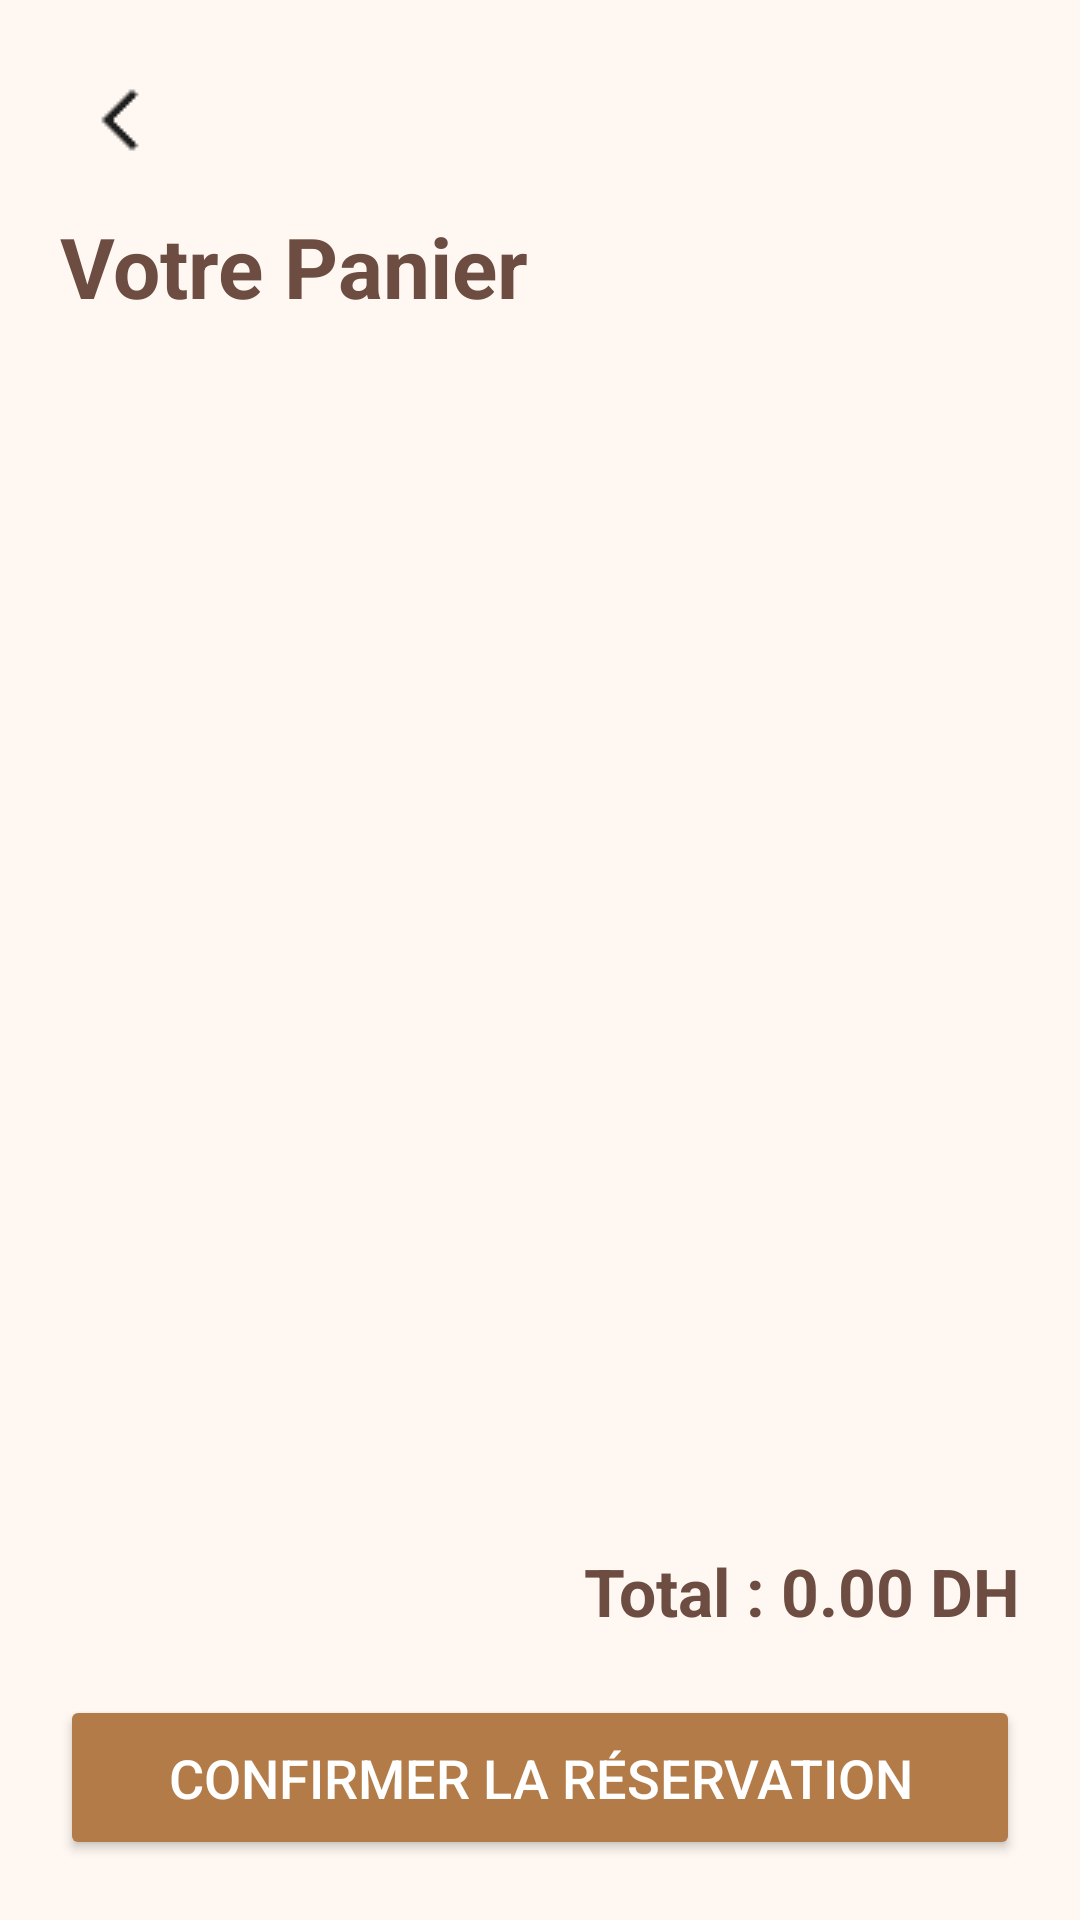

Icon click points for this 1080 x 1920 phone screenshot, format (x,y):
Retour: (120,120)
